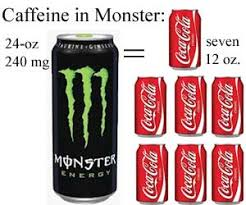can: (43, 27, 124, 201), (163, 7, 208, 76), (173, 73, 212, 139), (213, 73, 246, 136), (136, 72, 169, 133), (176, 143, 208, 205), (214, 142, 246, 203), (135, 139, 166, 201)
